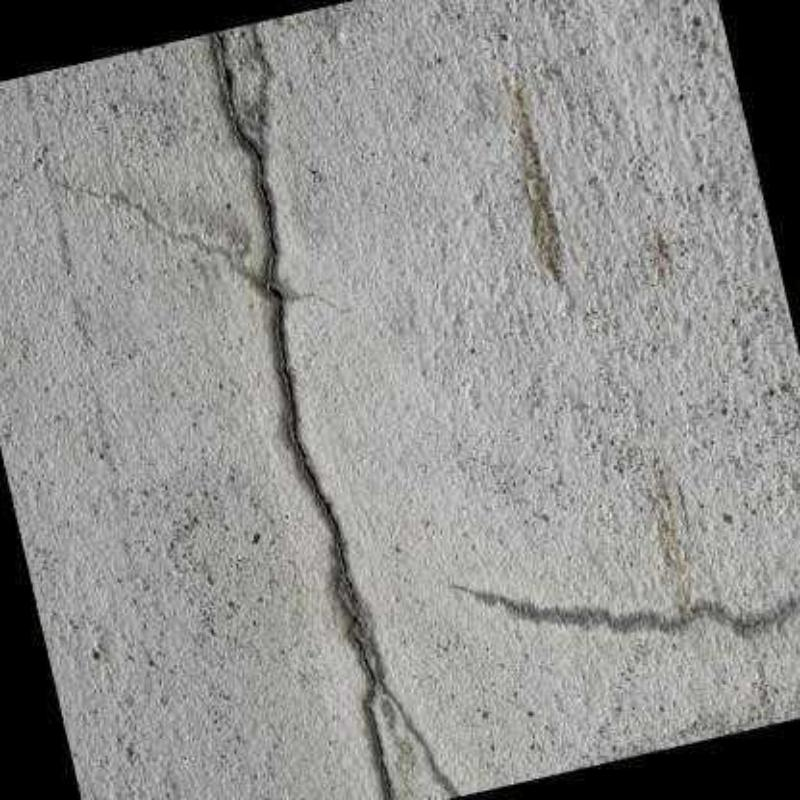pothole: (214, 34, 394, 800)
